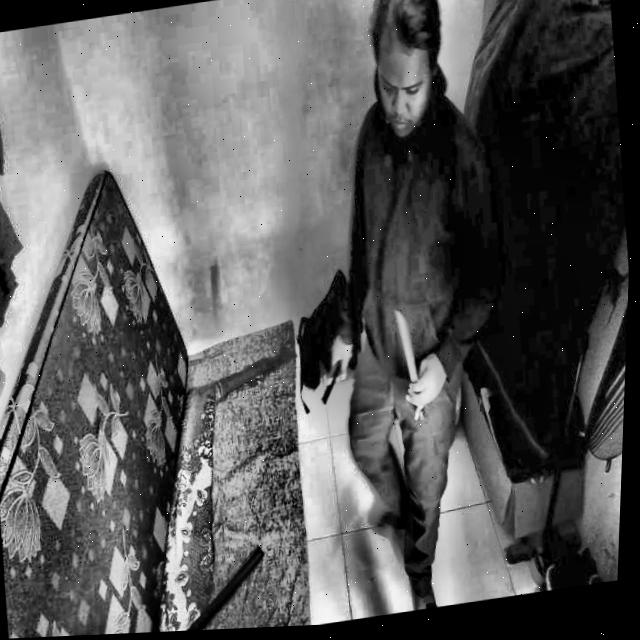pisau: (379, 301, 430, 440)
